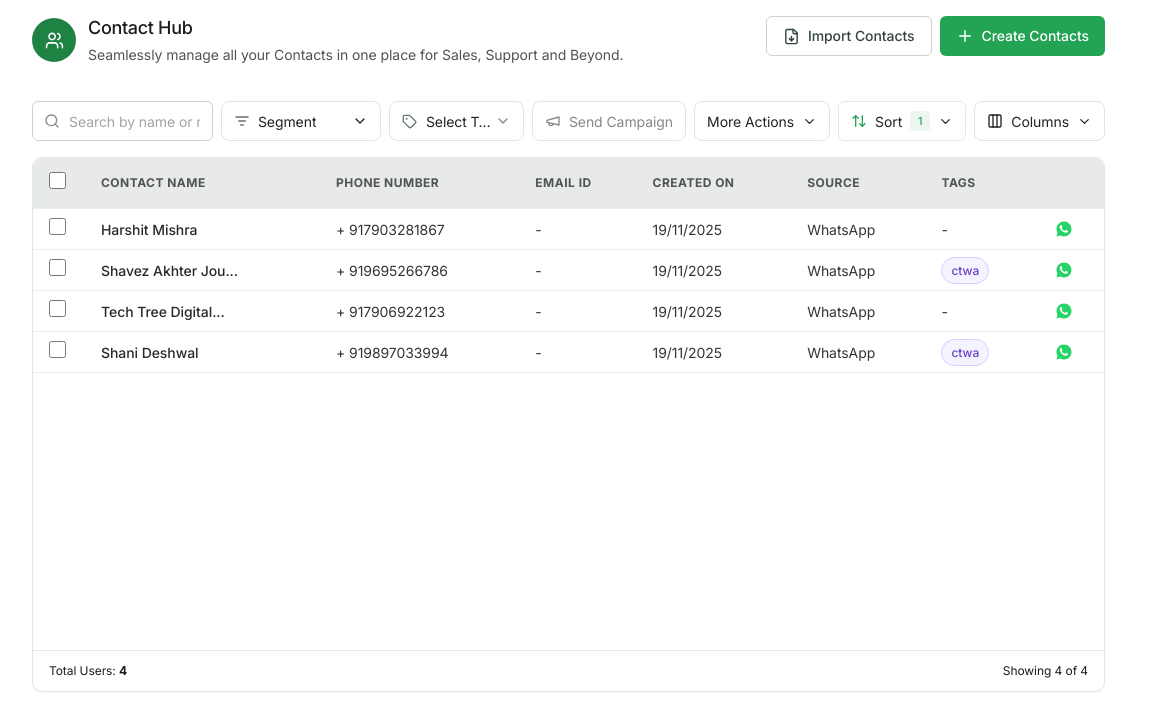
Scenario: ContactHub › applies and saves typed custom-field filters through backend query conditions
Expected: the text "Shani Deshwal" is shown, [101,344,199,360]
Step 1. Click the button "Segment" → coordinates (301, 121), box [221,101,381,141]
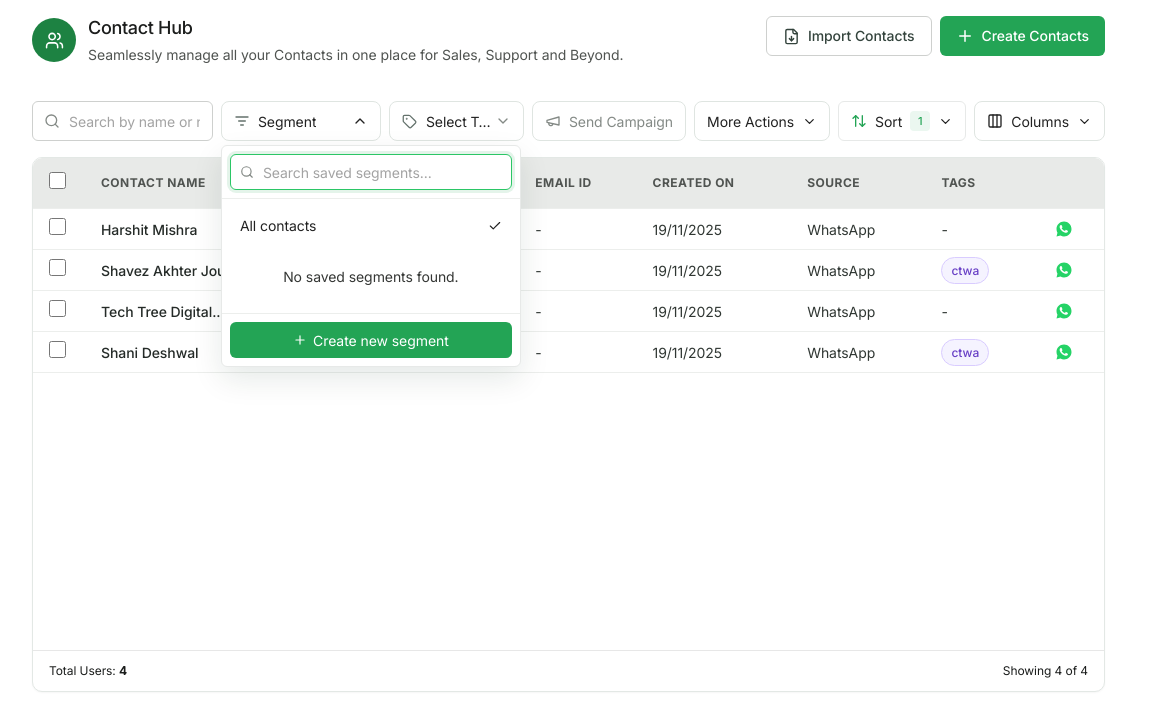
Step 2. Click the button "Create new segment" → coordinates (371, 340), box [230,322,512,358]
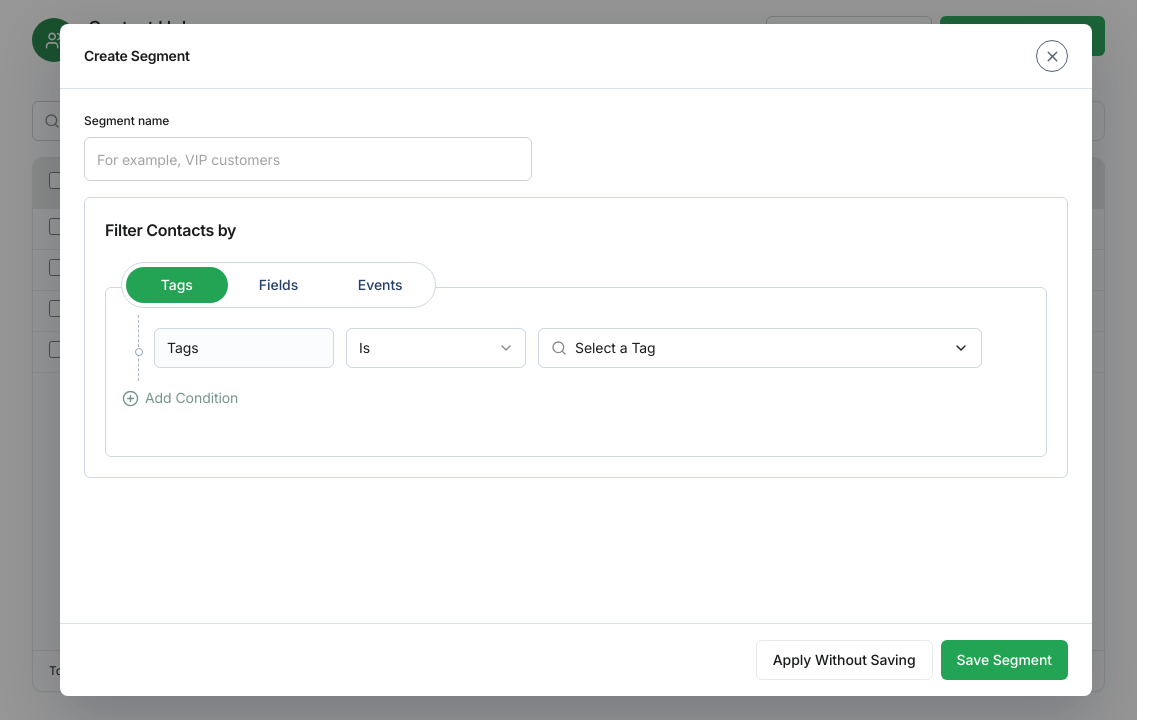
Step 3. Click the button "Fields" → coordinates (279, 285), box [228,267,329,303]
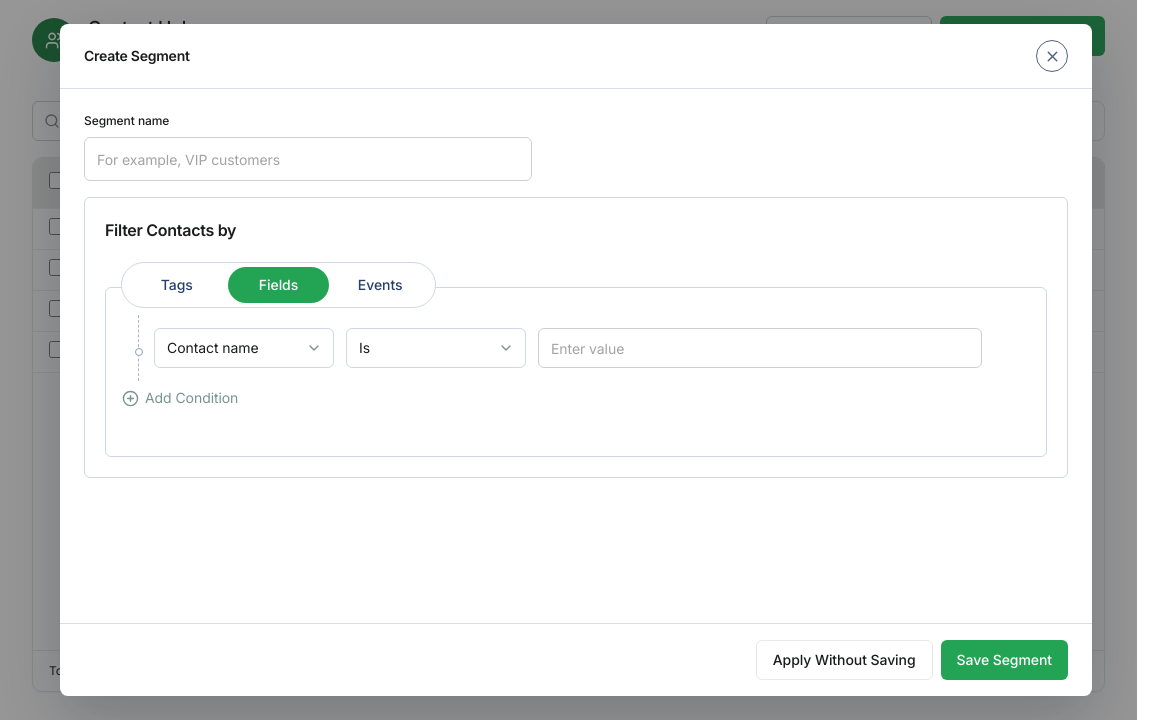
Step 4. Select "Customer tier · Custom" in the dropdown named "Condition field" → coordinates (244, 348), box [154,328,334,368]
Step 5. Select "Greater than" in the dropdown named "Condition operator" → coordinates (436, 348), box [346,328,526,368]
Step 6. Type "3" into the number field named "Condition value" → coordinates (760, 348), box [538,328,982,368]
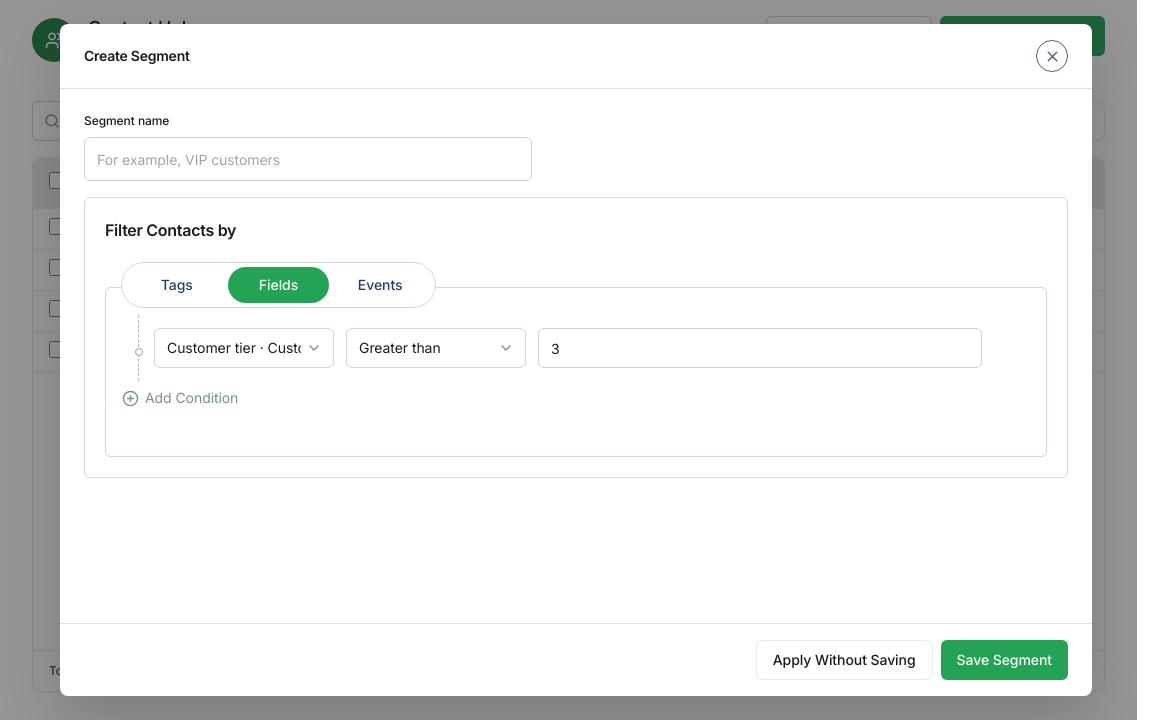
Step 7. Type "High-tier contacts" into the field labelled "Segment name" → coordinates (308, 159), box [84,137,532,181]
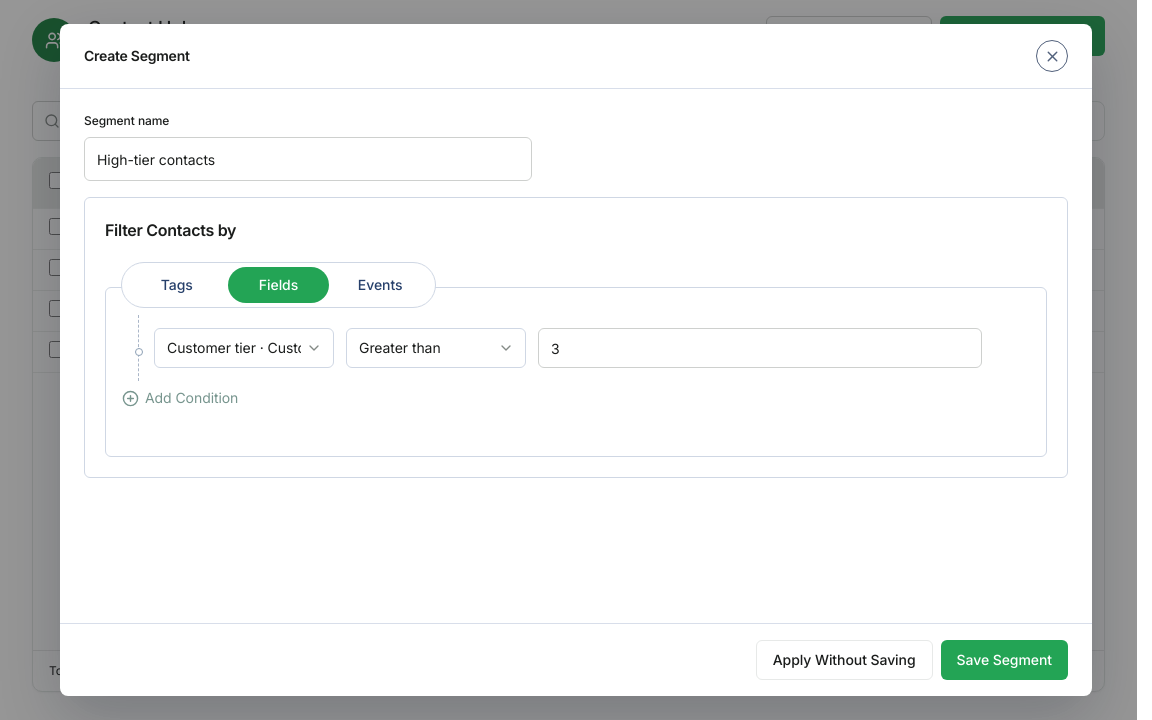
Step 8. Click the button "Save Segment" → coordinates (1004, 660), box [940,640,1068,680]
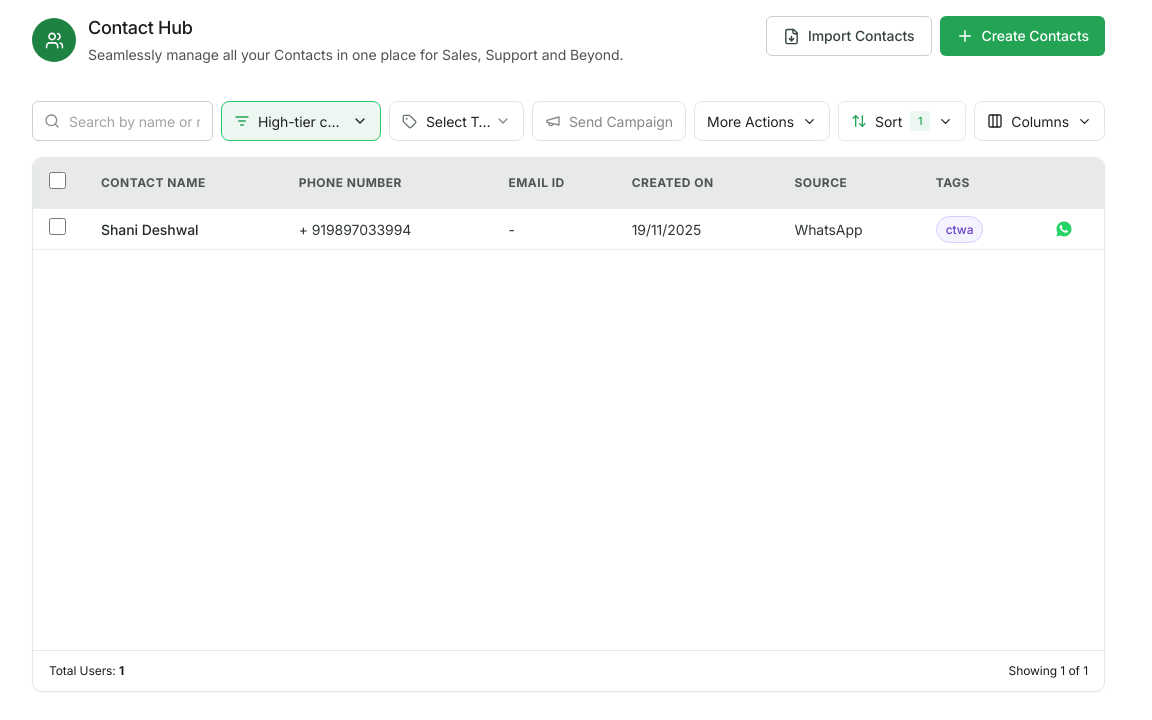
Expected: the text "Shani Deshwal" is shown, [101,220,199,238]
Expected: the text "Shavez Akhter Jou..." is gone
Expected: the text "Tech Tree Digital..." is gone
